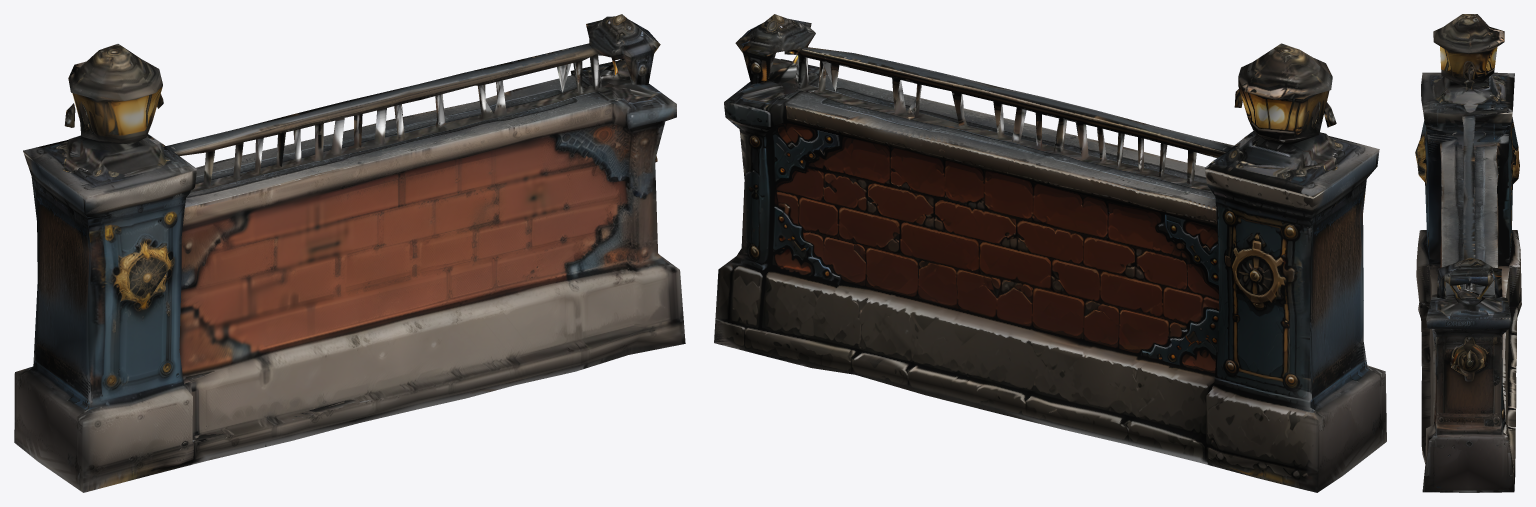
Rendered from Varco_BrickWall.fbx.
3 views of the same model, side by side, from view 1: azimuth 30°, elevation 25°; view 2: azimuth 150°, elevation 25°; view 3: azimuth 270°, elevation 25° (orthographic). The views are drawn at different scales.
Parts seen in each view (by area): view 1: texture_mapping; view 2: texture_mapping; view 3: texture_mapping.
Boxes of the visible parts, bbox=[...] form: texture_mapping: bbox=[14, 14, 685, 492]; texture_mapping: bbox=[714, 14, 1386, 492]; texture_mapping: bbox=[1415, 14, 1521, 492].
Bounding box in the file's own units: 0.9978 × 0.2122 × 0.6347.
Materials: 1 (1 with a texture image).
